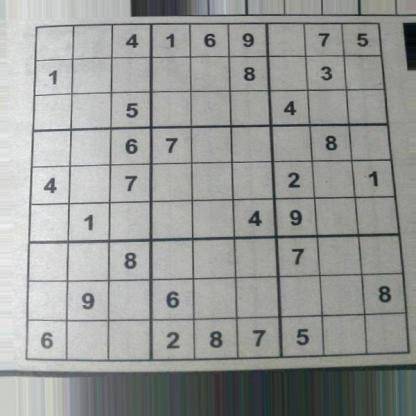sudoku: (25, 24, 412, 364)
